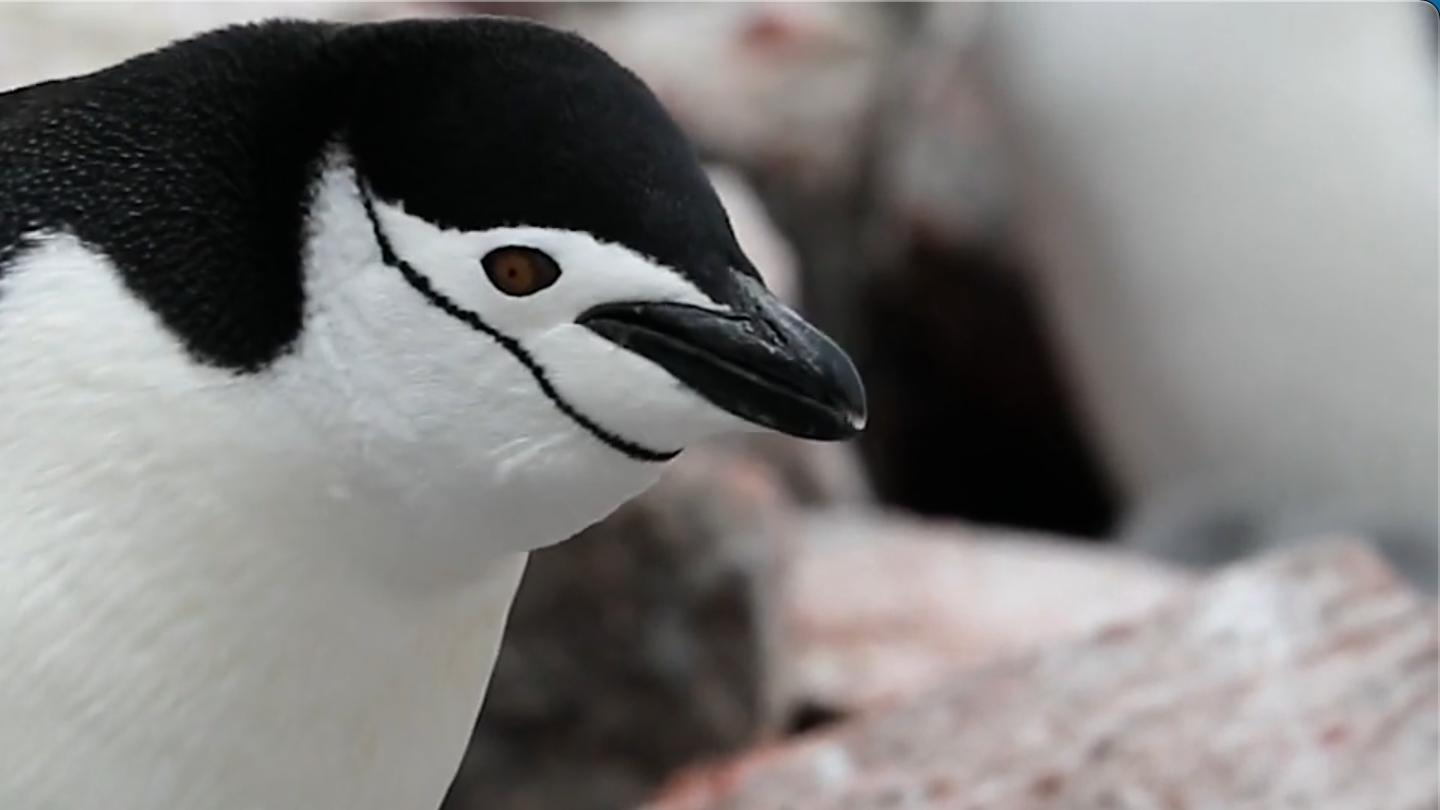Chinstrap Penguin: (0, 10, 871, 781)
